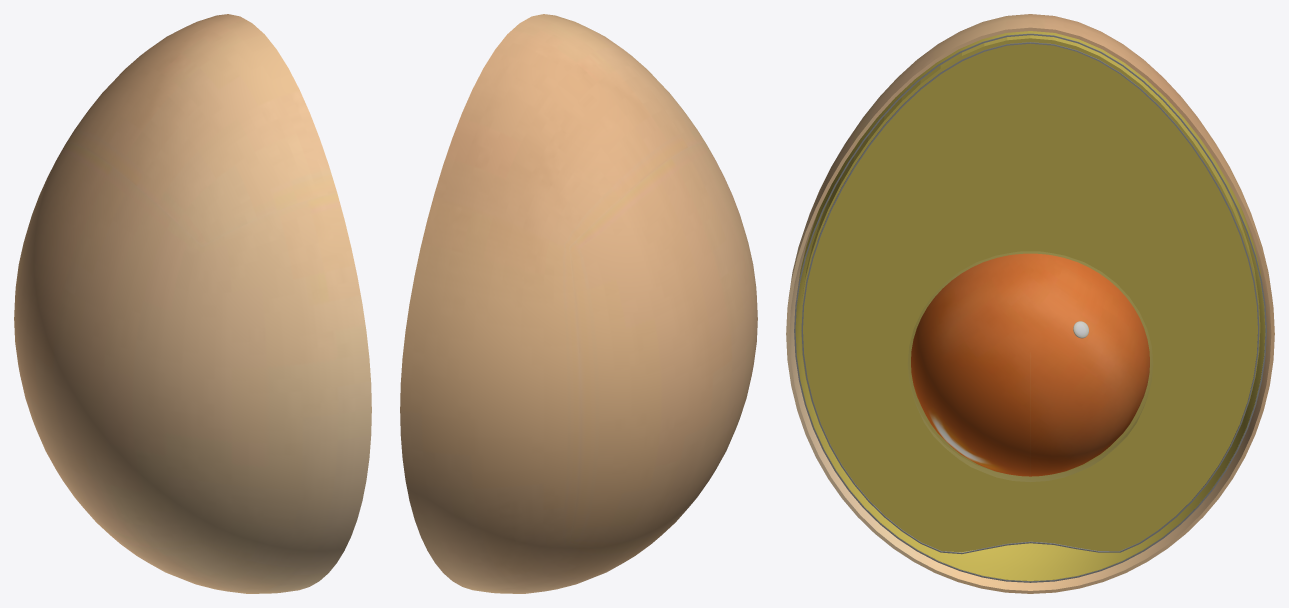
File: jidan.fbx
3 views of the same model, side by side, from view 1: azimuth 30°, elevation 25°; view 2: azimuth 150°, elevation 25°; view 3: azimuth 270°, elevation 25° (orthographic). The views are drawn at different scales.
Parts seen in each view (by area): view 1: jidan5:danke; view 2: jidan5:danke; view 3: jidan5:neimo, luanhaungmo, danhuang1:Mesh, jidan5:danke, polySurface1, polySurface2, polySurface3.
Boxes of the visible parts, left/top/right/bottom form: jidan5:danke: left=14, top=14, right=371, bottom=593; jidan5:danke: left=400, top=14, right=757, bottom=593; jidan5:neimo: left=800, top=35, right=1260, bottom=552; luanhaungmo: left=908, top=252, right=1152, bottom=481; danhuang1:Mesh: left=911, top=253, right=1149, bottom=476; jidan5:danke: left=786, top=14, right=1274, bottom=593; polySurface1: left=795, top=31, right=1265, bottom=581; polySurface2: left=794, top=33, right=1266, bottom=582; polySurface3: left=801, top=42, right=1259, bottom=554.
Size of the model in its own units: 4.22 by 7.46 by 5.84.
